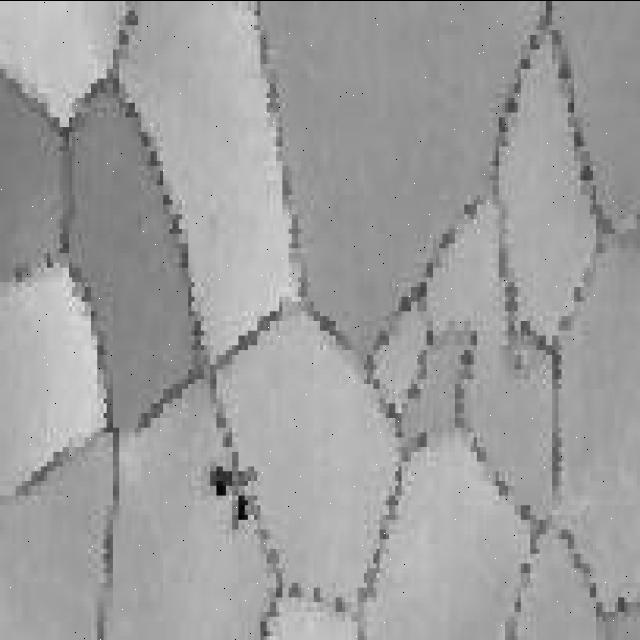good_void: (208, 465, 236, 496), (236, 494, 250, 523)
